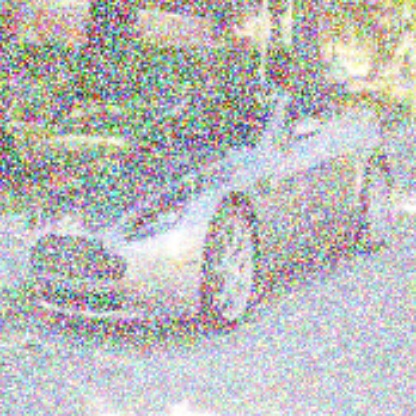Vehicle: (27, 82, 398, 332)
